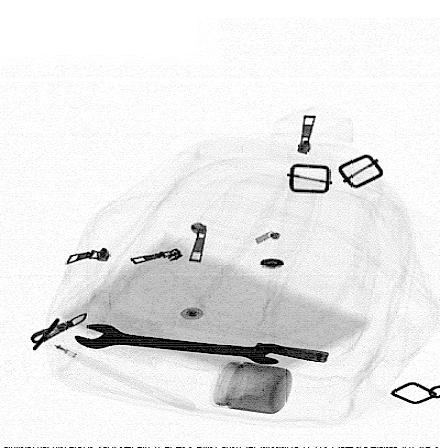Wrench: (73, 322, 291, 368)
